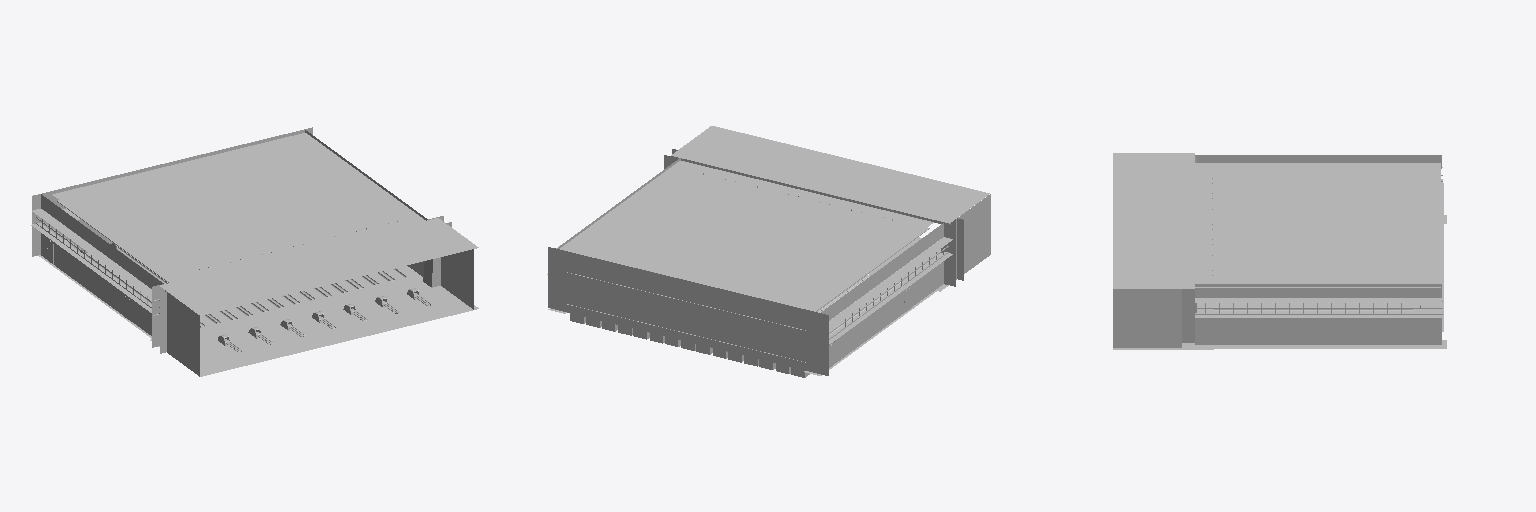
Rendered from alley.obj.
3 views of the same model, side by side, from view 1: azimuth 30°, elevation 25°; view 2: azimuth 150°, elevation 25°; view 3: azimuth 270°, elevation 25° (orthographic).
Visible parts, largest first — view 1: Venue01.lwo; view 2: Venue01.lwo; view 3: Venue01.lwo.
Part boxes in pixels (x1,y1,x2,y2): Venue01.lwo: (31, 127, 478, 376); Venue01.lwo: (547, 126, 990, 377); Venue01.lwo: (1113, 153, 1446, 349).
Bounding box in the file's own units: 11.07 × 2.57 × 10.98.